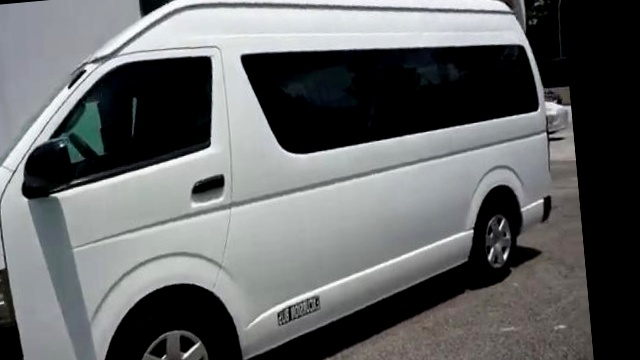van: (0, 0, 573, 360)
